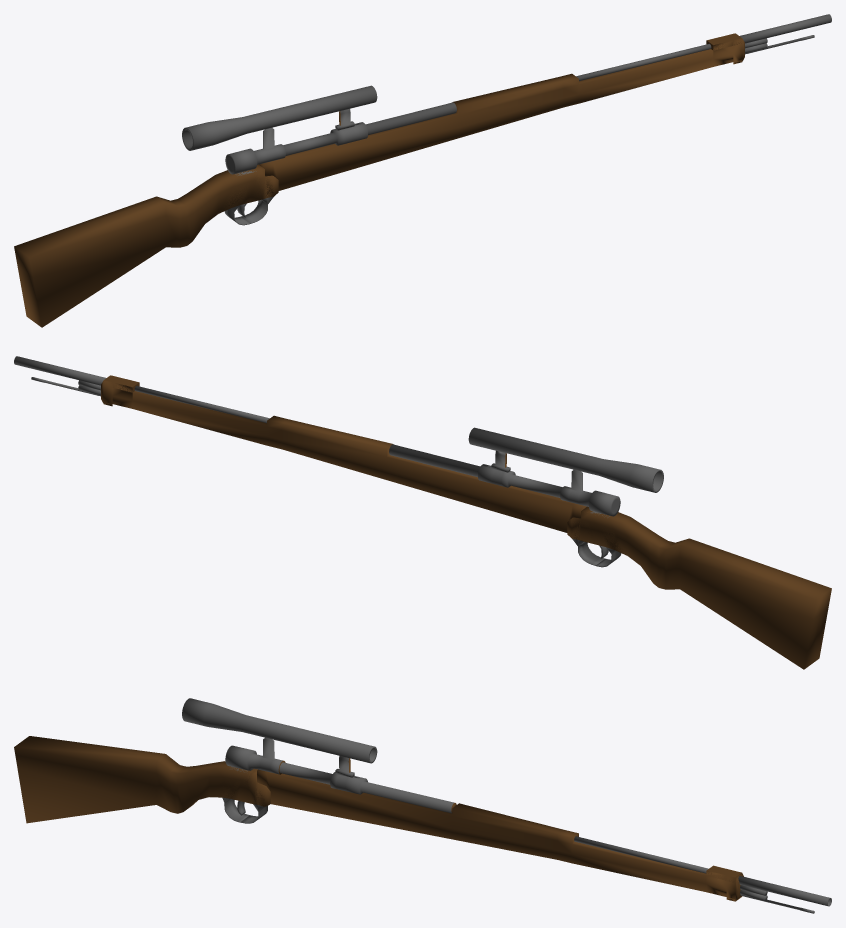
The model's file is sniper rifle.fbx.
3 renders of one model, top to bottom at view 1: azimuth 30°, elevation 25°; view 2: azimuth 150°, elevation 25°; view 3: azimuth 330°, elevation 25°, orthographic.
Visible parts, largest first — view 1: Sniper; view 2: Sniper; view 3: Sniper.
Part boxes in pixels (x1,y1,x2,y2): Sniper: (14,14,831,327); Sniper: (14,356,831,669); Sniper: (14,698,831,913).
Size of the model in its own units: 865 by 160 by 28.73.
